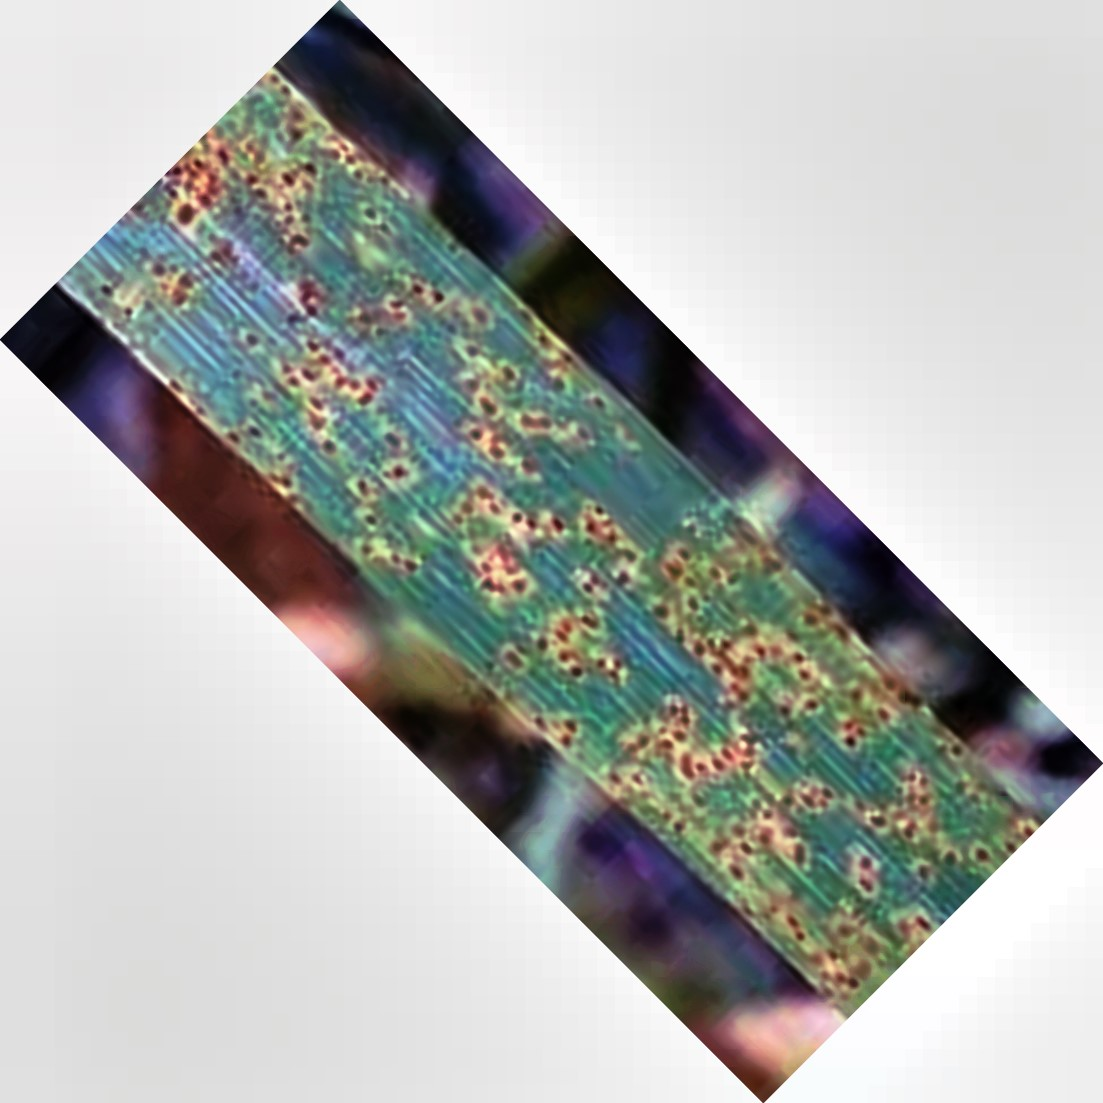Leaf Rust: (171, 193, 960, 911)
